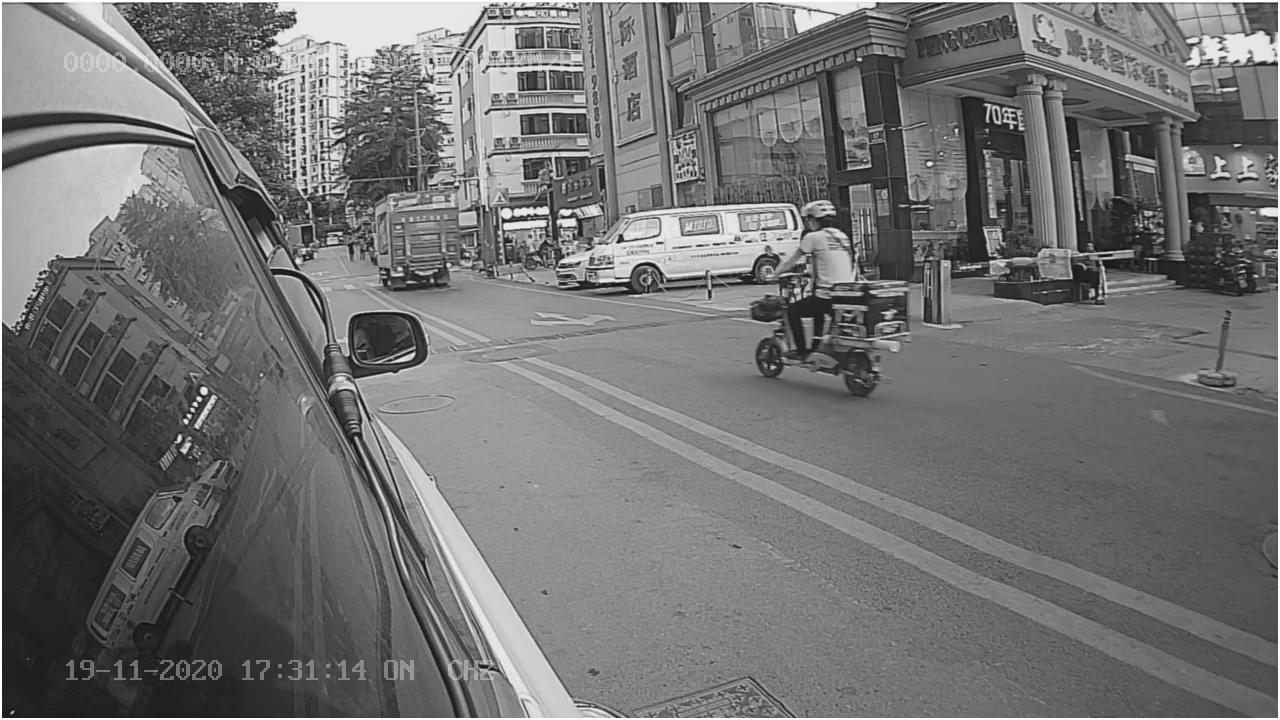person: (782, 201, 860, 282)
